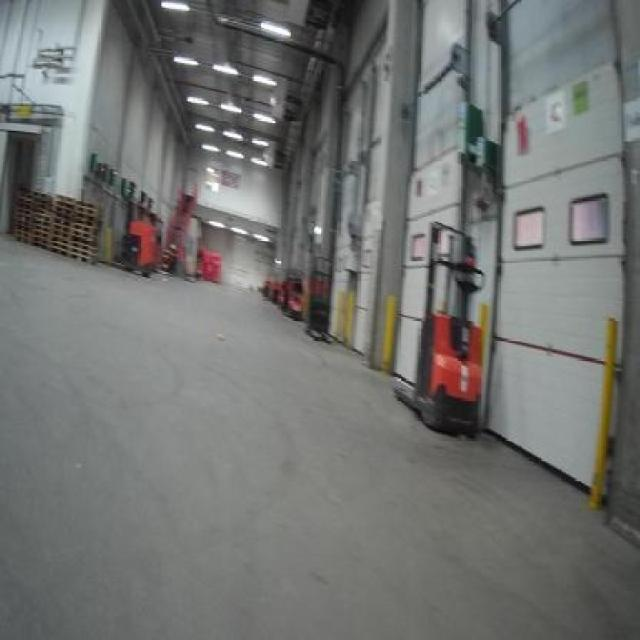floor: (0, 234, 637, 637)
pallets: (11, 191, 95, 258)
